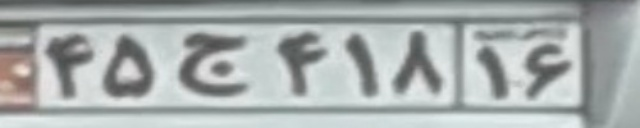1: (344, 33, 378, 96), (477, 44, 510, 98)
4: (45, 32, 93, 97), (277, 30, 323, 95)
5: (101, 33, 155, 99)
6: (522, 41, 572, 100)
8: (391, 30, 442, 94)
jim: (176, 32, 252, 95)
